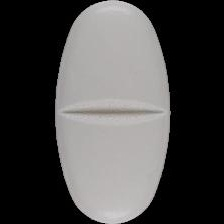10544-439: (0, 0, 224, 224)
